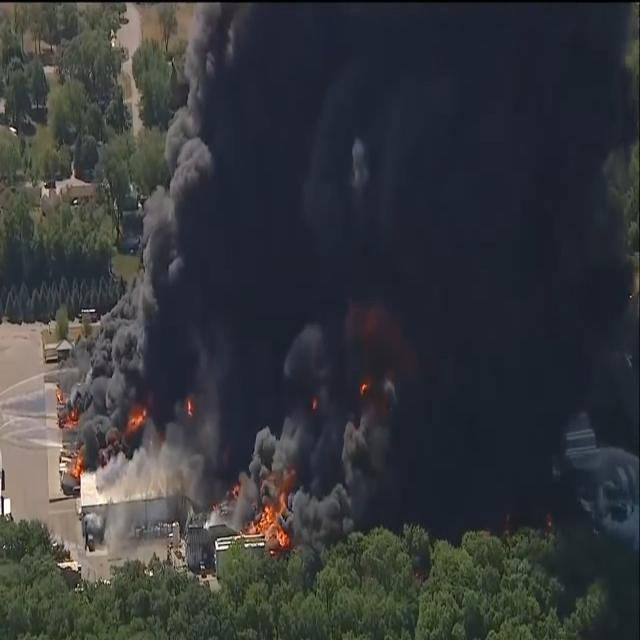Fire: (252, 481, 290, 548), (128, 402, 146, 432), (70, 448, 85, 480), (56, 404, 81, 422)
Smoke: (220, 4, 591, 534), (73, 0, 366, 473)
